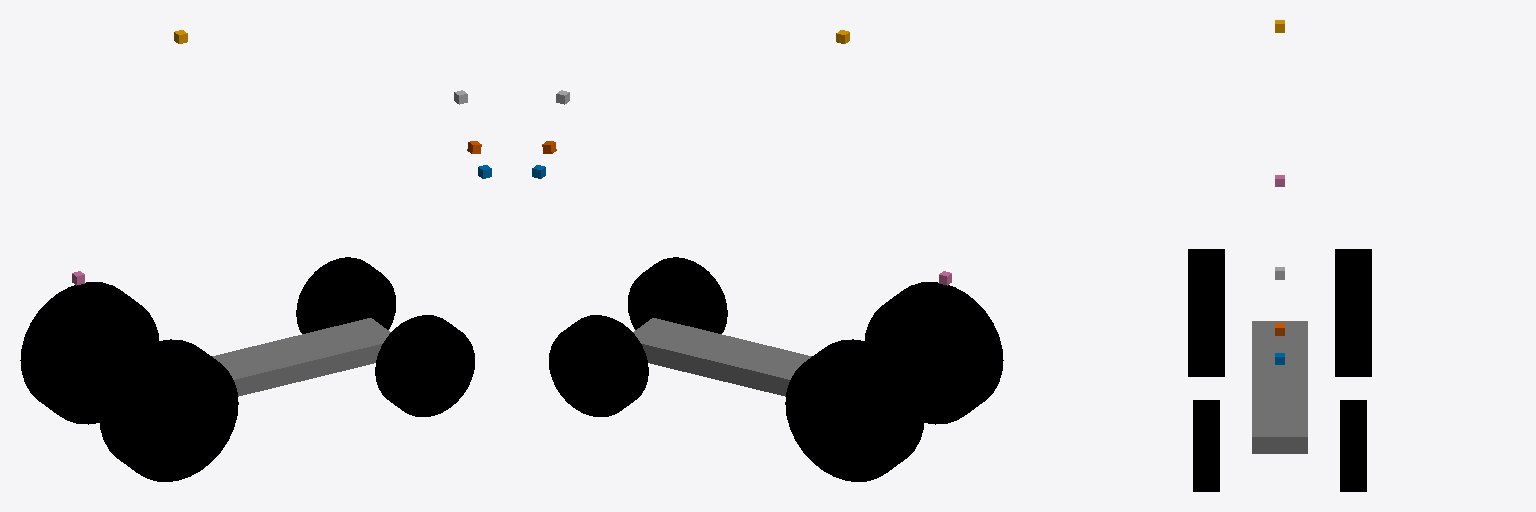
--- What the picture shows (computed from the rendered views, not written in the file) ---
3 views of the same robot in one strip: view 1: azimuth 30°, elevation 25°; view 2: azimuth 150°, elevation 25°; view 3: azimuth 270°, elevation 25° (orthographic).
Robot: kubo — 17 links, 16 joints (2 revolute, 4 continuous, 4 prismatic, 6 fixed); root link base_link; default pose: all joints at 0.
Links seen in each view (by area): view 1: right_rear_wheel, left_rear_wheel, right_front_wheel, chassis, left_front_wheel; view 2: left_rear_wheel, right_rear_wheel, left_front_wheel, chassis, right_front_wheel; view 3: chassis, left_rear_wheel, right_rear_wheel, left_front_wheel, right_front_wheel.
Link boxes in pixels (x1,y1,x2,y2): right_rear_wheel: (99,339,238,481); left_rear_wheel: (20,282,158,424); right_front_wheel: (375,315,474,416); chassis: (212,318,390,396); left_front_wheel: (296,257,395,333); left_rear_wheel: (785,339,924,481); right_rear_wheel: (865,282,1003,424); left_front_wheel: (549,315,648,416); chassis: (633,318,811,396); right_front_wheel: (628,257,727,333); chassis: (1252,321,1307,453); left_rear_wheel: (1335,249,1371,376); right_rear_wheel: (1188,249,1224,376); left_front_wheel: (1340,400,1366,491); right_front_wheel: (1193,400,1219,491).
Size in the robot's own frame: 2.46 by 1 by 2.24 metres.
Geometry: primitives only (box / cylinder / sphere), no mesh files.

The robot description file, URDF, robot "kubo":
<?xml version="1.0" ?>
<!-- =================================================================================== -->
<!-- |    This document was autogenerated by xacro from kubo.urdf.xacro                | -->
<!-- |    EDITING THIS FILE BY HAND IS NOT RECOMMENDED                                 | -->
<!-- =================================================================================== -->
<robot name="kubo" xmlns:xacro="http://www.ros.org/wiki/xacro">
  <gazebo>
    <plugin filename="libgazebo_ros_control.so" name="gazebo_ros_control"/>
  </gazebo>
  <!-- camera -->
  <gazebo reference="camera">
    <material>Gazebo/Green</material>
    <sensor name="camera1" type="camera">
      <update_rate>30.0</update_rate>
      <camera name="head">
        <horizontal_fov>1.3962634</horizontal_fov>
        <image>
          <width>800</width>
          <height>800</height>
          <format>R8G8B8</format>
        </image>
        <clip>
          <near>0.02</near>
          <far>300</far>
        </clip>
      </camera>
      <plugin filename="libgazebo_ros_camera.so" name="camera_controller">
        <alwaysOn>true</alwaysOn>
        <updateRate>0.0</updateRate>
        <cameraName>tractor_sim/camera1</cameraName>
        <imageTopicName>image_raw</imageTopicName>
        <cameraInfoTopicName>camera_info</cameraInfoTopicName>
        <frameName>camera</frameName>
        <hackBaseline>0.07</hackBaseline>
        <distortionK1>0.0</distortionK1>
        <distortionK2>0.0</distortionK2>
        <distortionK3>0.0</distortionK3>
        <distortionT1>0.0</distortionT1>
        <distortionT2>0.0</distortionT2>
      </plugin>
    </sensor>
  </gazebo>
  <!-- hokuyo -->
  <gazebo reference="hokuyo">
    <sensor name="head_hokuyo_sensor" type="ray">
      <pose>0 0 0 0 0 0</pose>
      <visualize>true</visualize>
      <update_rate>40</update_rate>
      <ray>
        <scan>
          <horizontal>
            <samples>720</samples>
            <resolution>1</resolution>
            <min_angle>-1.570796</min_angle>
            <max_angle>1.570796</max_angle>
          </horizontal>
        </scan>
        <range>
          <min>0.10</min>
          <max>30.0</max>
          <resolution>0.01</resolution>
        </range>
        <noise>
          <type>gaussian</type>
          <!-- Noise parameters based on published spec for Hokuyo laser
               achieving "+-30mm" accuracy at range < 10m.  A mean of 0.0m and
               stddev of 0.01m will put 99.7% of samples within 0.03m of the true
               reading. -->
          <mean>0.0</mean>
          <stddev>0.01</stddev>
        </noise>
      </ray>
      <plugin filename="libgazebo_ros_laser.so" name="gazebo_ros_head_hokuyo_controller">
        <topicName>/scan</topicName>
        <frameName>hokuyo</frameName>
      </plugin>
    </sensor>
  </gazebo>
  <!-- TODO: Look through logs on launch to set more params for imu, camera, and laser -->
  <gazebo>
    <plugin filename="libhector_gazebo_ros_gps.so" name="gazebo_ros_gps">
      <updateRate>4.0</updateRate>
      <bodyName>hemisphere_gps</bodyName>
      <frameId>sensor</frameId>
      <topicName>tractor_sim/hemisphere_gps/fix</topicName>
      <velocityTopicName>/hemisphere_gps/fix_velocity</velocityTopicName>
      <referenceLatitude>-30.06022459407145675</referenceLatitude>
      <referenceLongitude>-51.173913575780311191</referenceLongitude>
      <referenceHeading>90</referenceHeading>
      <referenceAltitude>10</referenceAltitude>
      <offset>0 0 0</offset>
      <drift>0.001 0.001 0.001</drift>
      <gaussianNoise>0.05 0.05 0.05</gaussianNoise>
      <velocityDrift>0.001 0.001 0.001</velocityDrift>
      <velocityGaussianNoise>0.5 0.5 0.5</velocityGaussianNoise>
      <!--                <drift>0.001 0.001 0.001</drift>-->
      <!--                <gaussianNoise>0.01 0.01 0.01</gaussianNoise>-->
      <!--                <velocityDrift>0 0 0</velocityDrift>-->
      <!--                <velocityGaussianNoise>0.05 0.05 0.05</velocityGaussianNoise>-->
    </plugin>
  </gazebo>
  <gazebo>
    <plugin filename="libhector_gazebo_ros_gps.so" name="gazebo_ros_gps">
      <updateRate>4.0</updateRate>
      <bodyName>rtk_gps</bodyName>
      <frameId>sensor</frameId>
      <topicName>tractor_sim/rtk_gps/fix</topicName>
      <velocityTopicName>/rtk_gps/fix_velocity</velocityTopicName>
      <referenceLatitude>-30.06022459407145675</referenceLatitude>
      <referenceLongitude>-51.173913575780311191</referenceLongitude>
      <referenceHeading>90</referenceHeading>
      <referenceAltitude>10</referenceAltitude>
      <offset>0 0 0</offset>
      <drift>0.001 0.001 0.001</drift>
      <gaussianNoise>0.05 0.05 0.05</gaussianNoise>
      <velocityDrift>0.001 0.001 0.001</velocityDrift>
      <velocityGaussianNoise>0.5 0.5 0.5</velocityGaussianNoise>
      <!--                <drift>0.001 0.001 0.001</drift>-->
      <!--                <gaussianNoise>0.01 0.01 0.01</gaussianNoise>-->
      <!--                <velocityDrift>0 0 0</velocityDrift>-->
      <!--                <velocityGaussianNoise>0.05 0.05 0.05</velocityGaussianNoise>-->
    </plugin>
  </gazebo>
  <gazebo>
    <plugin filename="libgazebo_ros_imu.so" name="imu_plugin">
      <alwaysOn>true</alwaysOn>
      <bodyName>imu</bodyName>
      <topicName>tractor_sim/imu</topicName>
      <serviceName>imu_service</serviceName>
      <gaussianNoise>0.0</gaussianNoise>
      <updateRate>20.0</updateRate>
    </plugin>
  </gazebo>
  <material name="chassis_mat">
    <color rgba="0.5 0.5 0.5 1"/>
  </material>
  <material name="tire_mat">
    <color rgba="0 0 0 1"/>
  </material>
  <!-- Z Distance from ground -->
  <!-- For inertia measurements -->
  <!-- base_link must have geometry so that its axes can be displayed in
       rviz. -->
  <link name="base_link">
    <visual>
      <geometry>
        <box size="0.01 0.01 0.01"/>
      </geometry>
      <material name="chassis_mat"/>
    </visual>
  </link>
  <gazebo reference="base_link">
    <material>Gazebo/Grey</material>
  </gazebo>
  <!-- Chassis -->
  <link name="chassis">
    <visual>
      <origin xyz="0.75 0 0.25"/>
      <!--Defualt: 0 0 ${-chassis_height / 2} -->
      <geometry>
        <box size="1.5 0.3 0.1"/>
      </geometry>
      <material name="chassis_mat"/>
    </visual>
    <collision>
      <origin xyz="0.75 0 0.25"/>
      <geometry>
        <box size="1.5 0.3 0.1"/>
      </geometry>
    </collision>
    <inertial>
      <origin xyz="0 0 -0.05"/>
      <mass value="2.788"/>
      <inertia ixx="0.0232333333333" ixy="0" ixz="0" iyy="0.525073333333" iyz="0" izz="0.54366"/>
    </inertial>
  </link>
  <gazebo reference="chassis">
    <material>Gazebo/Grey</material>
  </gazebo>
  <joint name="base_link_to_chassis" type="fixed">
    <parent link="base_link"/>
    <child link="chassis"/>
  </joint>
  <joint name="left_front_shock" type="prismatic">
    <parent link="chassis"/>
    <child link="left_steering_link"/>
    <origin xyz="1.5                    0.4                    0.25"/>
    <!-- Default: ${fr_reflect * wheelbase / 2}
                                ${lr_reflect * ((hex_hub_dist / 2) - axle_length)}
                                ${(wheel_travel / 2) - shock_z_offset}"-->
    <axis xyz="0 0 -1"/>
    <limit effort="125106" lower="0.0" upper="0.0" velocity="1000000"/>
  </joint>
  <transmission name="left_front_shock_trans">
    <type>transmission_interface/SimpleTransmission</type>
    <joint name="left_front_shock">
      <hardwareInterface>hardware_interface/EffortJointInterface</hardwareInterface>
    </joint>
    <actuator name="left_front_shock_act">
      <!-- This hardwareInterface element exists for compatibility
             with ROS Hydro. -->
      <hardwareInterface>hardware_interface/EffortJointInterface</hardwareInterface>
      <mechanicalReduction>1</mechanicalReduction>
    </actuator>
  </transmission>
  <link name="left_steering_link">
    <inertial>
      <mass value="0.001"/>
      <inertia ixx="0.001" ixy="0" ixz="0" iyy="0.001" iyz="0" izz="0.001"/>
    </inertial>
  </link>
  <joint name="left_steering_joint" type="revolute">
    <parent link="left_steering_link"/>
    <child link="left_front_axle_carrier"/>
    <axis xyz="0 0 1"/>
    <limit effort="5649" lower="-0.785398163" upper="0.785398163" velocity="4553"/>
  </joint>
  <transmission name="left_steering_trans">
    <type>transmission_interface/SimpleTransmission</type>
    <joint name="left_steering_joint">
      <hardwareInterface>hardware_interface/EffortJointInterface</hardwareInterface>
    </joint>
    <actuator name="left_steering_act">
      <!-- This hardwareInterface element exists for compatibility
             with ROS Hydro. -->
      <hardwareInterface>hardware_interface/EffortJointInterface</hardwareInterface>
      <mechanicalReduction>1</mechanicalReduction>
    </actuator>
  </transmission>
  <link name="left_front_axle_carrier">
    <inertial>
      <mass value="0.001"/>
      <inertia ixx="0.001" ixy="0" ixz="0" iyy="0.001" iyz="0" izz="0.001"/>
    </inertial>
  </link>
  <!-- The left and right axles have the same axis so that identical
         rotation values cause the wheels to rotate in the same direction. -->
  <joint name="left_front_axle" type="continuous">
    <parent link="left_front_axle_carrier"/>
    <child link="left_front_wheel"/>
    <origin rpy="1.57079633 0 0"/>
    <axis xyz="0 0 -1"/>
    <limit effort="512766" velocity="2448696"/>
  </joint>
  <transmission name="left_front_axle_trans">
    <type>transmission_interface/SimpleTransmission</type>
    <joint name="left_front_axle">
      <hardwareInterface>hardware_interface/EffortJointInterface</hardwareInterface>
    </joint>
    <actuator name="left_front_axle_act">
      <!-- This hardwareInterface element exists for compatibility
             with ROS Hydro. -->
      <hardwareInterface>hardware_interface/EffortJointInterface</hardwareInterface>
      <mechanicalReduction>1</mechanicalReduction>
    </actuator>
  </transmission>
  <link name="left_front_wheel">
    <visual>
      <origin xyz="0                      0.0                      0"/>
      <geometry>
        <cylinder length="0.15" radius="0.25"/>
      </geometry>
      <material name="tire_mat"/>
    </visual>
    <collision>
      <origin xyz="0                      0.0                      0"/>
      <geometry>
        <cylinder length="0.15" radius="0.25"/>
      </geometry>
    </collision>
    <inertial>
      <mass value="0.29"/>
      <inertia ixx="0.005243854501" ixy="0" ixz="0" iyy="0.005243854501" iyz="0" izz="0.009400209002"/>
    </inertial>
  </link>
  <gazebo reference="left_front_wheel">
    <material>Gazebo/Black</material>
  </gazebo>
  <joint name="right_front_shock" type="prismatic">
    <parent link="chassis"/>
    <child link="right_steering_link"/>
    <origin xyz="1.5                    -0.4                    0.25"/>
    <!-- Default: ${fr_reflect * wheelbase / 2}
                                ${lr_reflect * ((hex_hub_dist / 2) - axle_length)}
                                ${(wheel_travel / 2) - shock_z_offset}"-->
    <axis xyz="0 0 -1"/>
    <limit effort="125106" lower="0.0" upper="0.0" velocity="1000000"/>
  </joint>
  <transmission name="right_front_shock_trans">
    <type>transmission_interface/SimpleTransmission</type>
    <joint name="right_front_shock">
      <hardwareInterface>hardware_interface/EffortJointInterface</hardwareInterface>
    </joint>
    <actuator name="right_front_shock_act">
      <!-- This hardwareInterface element exists for compatibility
             with ROS Hydro. -->
      <hardwareInterface>hardware_interface/EffortJointInterface</hardwareInterface>
      <mechanicalReduction>1</mechanicalReduction>
    </actuator>
  </transmission>
  <link name="right_steering_link">
    <inertial>
      <mass value="0.001"/>
      <inertia ixx="0.001" ixy="0" ixz="0" iyy="0.001" iyz="0" izz="0.001"/>
    </inertial>
  </link>
  <joint name="right_steering_joint" type="revolute">
    <parent link="right_steering_link"/>
    <child link="right_front_axle_carrier"/>
    <axis xyz="0 0 1"/>
    <limit effort="5649" lower="-0.785398163" upper="0.785398163" velocity="4553"/>
  </joint>
  <transmission name="right_steering_trans">
    <type>transmission_interface/SimpleTransmission</type>
    <joint name="right_steering_joint">
      <hardwareInterface>hardware_interface/EffortJointInterface</hardwareInterface>
    </joint>
    <actuator name="right_steering_act">
      <!-- This hardwareInterface element exists for compatibility
             with ROS Hydro. -->
      <hardwareInterface>hardware_interface/EffortJointInterface</hardwareInterface>
      <mechanicalReduction>1</mechanicalReduction>
    </actuator>
  </transmission>
  <link name="right_front_axle_carrier">
    <inertial>
      <mass value="0.001"/>
      <inertia ixx="0.001" ixy="0" ixz="0" iyy="0.001" iyz="0" izz="0.001"/>
    </inertial>
  </link>
  <!-- The left and right axles have the same axis so that identical
         rotation values cause the wheels to rotate in the same direction. -->
  <joint name="right_front_axle" type="continuous">
    <parent link="right_front_axle_carrier"/>
    <child link="right_front_wheel"/>
    <origin rpy="1.57079633 0 0"/>
    <axis xyz="0 0 -1"/>
    <limit effort="512766" velocity="2448696"/>
  </joint>
  <transmission name="right_front_axle_trans">
    <type>transmission_interface/SimpleTransmission</type>
    <joint name="right_front_axle">
      <hardwareInterface>hardware_interface/EffortJointInterface</hardwareInterface>
    </joint>
    <actuator name="right_front_axle_act">
      <!-- This hardwareInterface element exists for compatibility
             with ROS Hydro. -->
      <hardwareInterface>hardware_interface/EffortJointInterface</hardwareInterface>
      <mechanicalReduction>1</mechanicalReduction>
    </actuator>
  </transmission>
  <link name="right_front_wheel">
    <visual>
      <origin xyz="0                      -0.0                      0"/>
      <geometry>
        <cylinder length="0.15" radius="0.25"/>
      </geometry>
      <material name="tire_mat"/>
    </visual>
    <collision>
      <origin xyz="0                      -0.0                      0"/>
      <geometry>
        <cylinder length="0.15" radius="0.25"/>
      </geometry>
    </collision>
    <inertial>
      <mass value="0.29"/>
      <inertia ixx="0.005243854501" ixy="0" ixz="0" iyy="0.005243854501" iyz="0" izz="0.009400209002"/>
    </inertial>
  </link>
  <gazebo reference="right_front_wheel">
    <material>Gazebo/Black</material>
  </gazebo>
  <joint name="left_rear_shock" type="prismatic">
    <parent link="chassis"/>
    <child link="left_rear_axle_carrier"/>
    <origin xyz="0.0                    0.4                    0.35"/>
    <!-- Default: ${fr_reflect * wheelbase / 2}
                                ${lr_reflect * ((hex_hub_dist / 2) - axle_length)}
                                ${(wheel_travel / 2) - shock_z_offset}"-->
    <axis xyz="0 0 -1"/>
    <limit effort="125106" lower="0.0" upper="0.0" velocity="1000000"/>
  </joint>
  <transmission name="left_rear_shock_trans">
    <type>transmission_interface/SimpleTransmission</type>
    <joint name="left_rear_shock">
      <hardwareInterface>hardware_interface/EffortJointInterface</hardwareInterface>
    </joint>
    <actuator name="left_rear_shock_act">
      <!-- This hardwareInterface element exists for compatibility
             with ROS Hydro. -->
      <hardwareInterface>hardware_interface/EffortJointInterface</hardwareInterface>
      <mechanicalReduction>1</mechanicalReduction>
    </actuator>
  </transmission>
  <link name="left_rear_axle_carrier">
    <inertial>
      <mass value="0.001"/>
      <inertia ixx="0.001" ixy="0" ixz="0" iyy="0.001" iyz="0" izz="0.001"/>
    </inertial>
  </link>
  <!-- The left and right axles have the same axis so that identical
         rotation values cause the wheels to rotate in the same direction. -->
  <joint name="left_rear_axle" type="continuous">
    <parent link="left_rear_axle_carrier"/>
    <child link="left_rear_wheel"/>
    <origin rpy="1.57079633 0 0"/>
    <axis xyz="0 0 -1"/>
    <limit effort="512766" velocity="2448696"/>
  </joint>
  <transmission name="left_rear_axle_trans">
    <type>transmission_interface/SimpleTransmission</type>
    <joint name="left_rear_axle">
      <hardwareInterface>hardware_interface/EffortJointInterface</hardwareInterface>
    </joint>
    <actuator name="left_rear_axle_act">
      <!-- This hardwareInterface element exists for compatibility
             with ROS Hydro. -->
      <hardwareInterface>hardware_interface/EffortJointInterface</hardwareInterface>
      <mechanicalReduction>1</mechanicalReduction>
    </actuator>
  </transmission>
  <link name="left_rear_wheel">
    <visual>
      <origin xyz="0                      0.0                      0"/>
      <geometry>
        <cylinder length="0.2" radius="0.35"/>
      </geometry>
      <material name="tire_mat"/>
    </visual>
    <collision>
      <origin xyz="0                      0.0                      0"/>
      <geometry>
        <cylinder length="0.2" radius="0.35"/>
      </geometry>
    </collision>
    <inertial>
      <mass value="0.29"/>
      <inertia ixx="0.0100167711677" ixy="0" ixz="0" iyy="0.0100167711677" iyz="0" izz="0.018100209002"/>
    </inertial>
  </link>
  <gazebo reference="left_rear_wheel">
    <material>Gazebo/Black</material>
  </gazebo>
  <joint name="right_rear_shock" type="prismatic">
    <parent link="chassis"/>
    <child link="right_rear_axle_carrier"/>
    <origin xyz="0.0                    -0.4                    0.35"/>
    <!-- Default: ${fr_reflect * wheelbase / 2}
                                ${lr_reflect * ((hex_hub_dist / 2) - axle_length)}
                                ${(wheel_travel / 2) - shock_z_offset}"-->
    <axis xyz="0 0 -1"/>
    <limit effort="125106" lower="0.0" upper="0.0" velocity="1000000"/>
  </joint>
  <transmission name="right_rear_shock_trans">
    <type>transmission_interface/SimpleTransmission</type>
    <joint name="right_rear_shock">
      <hardwareInterface>hardware_interface/EffortJointInterface</hardwareInterface>
    </joint>
    <actuator name="right_rear_shock_act">
      <!-- This hardwareInterface element exists for compatibility
             with ROS Hydro. -->
      <hardwareInterface>hardware_interface/EffortJointInterface</hardwareInterface>
      <mechanicalReduction>1</mechanicalReduction>
    </actuator>
  </transmission>
  <link name="right_rear_axle_carrier">
    <inertial>
      <mass value="0.001"/>
      <inertia ixx="0.001" ixy="0" ixz="0" iyy="0.001" iyz="0" izz="0.001"/>
    </inertial>
  </link>
  <!-- The left and right axles have the same axis so that identical
         rotation values cause the wheels to rotate in the same direction. -->
  <joint name="right_rear_axle" type="continuous">
    <parent link="right_rear_axle_carrier"/>
    <child link="right_rear_wheel"/>
    <origin rpy="1.57079633 0 0"/>
    <axis xyz="0 0 -1"/>
    <limit effort="512766" velocity="2448696"/>
  </joint>
  <transmission name="right_rear_axle_trans">
    <type>transmission_interface/SimpleTransmission</type>
    <joint name="right_rear_axle">
      <hardwareInterface>hardware_interface/EffortJointInterface</hardwareInterface>
    </joint>
    <actuator name="right_rear_axle_act">
      <!-- This hardwareInterface element exists for compatibility
             with ROS Hydro. -->
      <hardwareInterface>hardware_interface/EffortJointInterface</hardwareInterface>
      <mechanicalReduction>1</mechanicalReduction>
    </actuator>
  </transmission>
  <link name="right_rear_wheel">
    <visual>
      <origin xyz="0                      -0.0                      0"/>
      <geometry>
        <cylinder length="0.2" radius="0.35"/>
      </geometry>
      <material name="tire_mat"/>
    </visual>
    <collision>
      <origin xyz="0                      -0.0                      0"/>
      <geometry>
        <cylinder length="0.2" radius="0.35"/>
      </geometry>
    </collision>
    <inertial>
      <mass value="0.29"/>
      <inertia ixx="0.0100167711677" ixy="0" ixz="0" iyy="0.0100167711677" iyz="0" izz="0.018100209002"/>
    </inertial>
  </link>
  <gazebo reference="right_rear_wheel">
    <material>Gazebo/Black</material>
  </gazebo>
  <link name="camera">
    <collision>
      <origin rpy="0 0 0" xyz="0 0 0"/>
      <geometry>
        <box size="0.05 0.05 0.05"/>
        <!-- CHANGE LATER-->
      </geometry>
    </collision>
    <visual>
      <origin rpy="0 0 0" xyz="0 0 0"/>
      <geometry>
        <box size="0.05 0.05 0.05"/>
      </geometry>
      <material name="green"/>
    </visual>
    <inertial>
      <mass value="0.1"/>
      <origin rpy="0 0 0" xyz="0 0 0"/>
      <box_inertia m="0.1" x="0.1" y="0.1" z="0.1"/>
      <inertia ixx="1e-6" ixy="0" ixz="0" iyy="1e-6" iyz="0" izz="1e-6"/>
    </inertial>
  </link>
  <joint name="camera_joint" type="fixed">
    <axis xyz="0 1 0"/>
    <origin rpy="0 0 0" xyz="2.08 0 1.04"/>
    <!-- CHANGE LATER-->
    <parent link="base_link"/>
    <child link="camera"/>
  </joint>
  <link name="hokuyo">
    <collision>
      <origin rpy="0 0 0" xyz="0 0 0"/>
      <geometry>
        <box size="0.05 0.05 0.05"/>
        <!-- CHANGE LATER-->
      </geometry>
    </collision>
    <visual>
      <origin rpy="0 0 0" xyz="0 0 0"/>
      <geometry>
        <box size="0.05 0.05 0.05"/>
      </geometry>
      <material name="green"/>
    </visual>
    <inertial>
      <mass value="0.1"/>
      <origin rpy="0 0 0" xyz="0 0 0"/>
      <box_inertia m="0.1" x="0.1" y="0.1" z="0.1"/>
      <inertia ixx="1e-6" ixy="0" ixz="0" iyy="1e-6" iyz="0" izz="1e-6"/>
    </inertial>
  </link>
  <joint name="hokuyo_joint" type="fixed">
    <axis xyz="0 1 0"/>
    <origin rpy="0 0.157 0" xyz="2.02 0 1.19"/>
    <!-- CHANGE LATER-->
    <parent link="base_link"/>
    <child link="hokuyo"/>
  </joint>
  <link name="imu">
    <collision>
      <origin rpy="0 0 0" xyz="0 0 0"/>
      <geometry>
        <box size="0.05 0.05 0.05"/>
        <!-- CHANGE LATER-->
      </geometry>
    </collision>
    <visual>
      <origin rpy="0 0 0" xyz="0 0 0"/>
      <geometry>
        <box size="0.05 0.05 0.05"/>
      </geometry>
      <material name="green"/>
    </visual>
    <inertial>
      <mass value="0.1"/>
      <origin rpy="0 0 0" xyz="0 0 0"/>
      <box_inertia m="0.1" x="0.1" y="0.1" z="0.1"/>
      <inertia ixx="1e-6" ixy="0" ixz="0" iyy="1e-6" iyz="0" izz="1e-6"/>
    </inertial>
  </link>
  <joint name="imu_joint" type="fixed">
    <axis xyz="0 1 0"/>
    <origin rpy="0 0 0" xyz="-0.3 0 1"/>
    <!-- CHANGE LATER-->
    <parent link="base_link"/>
    <child link="imu"/>
  </joint>
  <link name="hemisphere_gps">
    <collision>
      <origin rpy="0 0 0" xyz="0 0 0"/>
      <geometry>
        <box size="0.05 0.05 0.05"/>
        <!-- CHANGE LATER-->
      </geometry>
    </collision>
    <visual>
      <origin rpy="0 0 0" xyz="0 0 0"/>
      <geometry>
        <box size="0.05 0.05 0.05"/>
      </geometry>
      <material name="green"/>
    </visual>
    <inertial>
      <mass value="0.1"/>
      <origin rpy="0 0 0" xyz="0 0 0"/>
      <box_inertia m="0.1" x="0.1" y="0.1" z="0.1"/>
      <inertia ixx="1e-6" ixy="0" ixz="0" iyy="1e-6" iyz="0" izz="1e-6"/>
    </inertial>
  </link>
  <joint name="hemisphere_gps_joint" type="fixed">
    <axis xyz="0 1 0"/>
    <origin rpy="0 0 0" xyz="1.94 0 1.49"/>
    <!-- CHANGE LATER-->
    <parent link="base_link"/>
    <child link="hemisphere_gps"/>
  </joint>
  <link name="rtk_gps">
    <collision>
      <origin rpy="0 0 0" xyz="0 0 0"/>
      <geometry>
        <box size="0.05 0.05 0.05"/>
        <!-- CHANGE LATER-->
      </geometry>
    </collision>
    <visual>
      <origin rpy="0 0 0" xyz="0 0 0"/>
      <geometry>
        <box size="0.05 0.05 0.05"/>
      </geometry>
      <material name="green"/>
    </visual>
    <inertial>
      <mass value="0.1"/>
      <origin rpy="0 0 0" xyz="0 0 0"/>
      <box_inertia m="0.1" x="0.1" y="0.1" z="0.1"/>
      <inertia ixx="1e-6" ixy="0" ixz="0" iyy="1e-6" iyz="0" izz="1e-6"/>
    </inertial>
  </link>
  <joint name="rtk_gps_joint" type="fixed">
    <axis xyz="0 1 0"/>
    <origin rpy="0 0 0" xyz="0.3 0 2.21"/>
    <!-- CHANGE LATER-->
    <parent link="base_link"/>
    <child link="rtk_gps"/>
  </joint>
  <!-- Hokuyo Laser -->
  <!-- Using mesh example
  <link name="hokuyo">
    <collision>
      <origin xyz="0 0 0" rpy="0 0 0"/>
      <geometry>
    <box size="0.1 0.1 0.1"/>
      </geometry>
    </collision>

    <visual>
      <origin xyz="0 0 0" rpy="0 0 0"/>
      <geometry>
        <mesh filename="package://tractor_sim_description/meshes/hokuyo.dae"/>
      </geometry>
    </visual>

    <inertial>
      <mass value="1e-5" />
      <origin xyz="0 0 0" rpy="0 0 0"/>
      <inertia ixx="1e-6" ixy="0" ixz="0" iyy="1e-6" iyz="0" izz="1e-6" />
    </inertial>
  </link>

  <joint name="hokuyo_joint" type="fixed">
    <axis xyz="0 1 0" />
    <origin xyz=".15 0 .6" rpy="0 -.1 0"/>
    <parent link="chassis"/>
    <child link="hokuyo"/>
  </joint>
-->
</robot>
